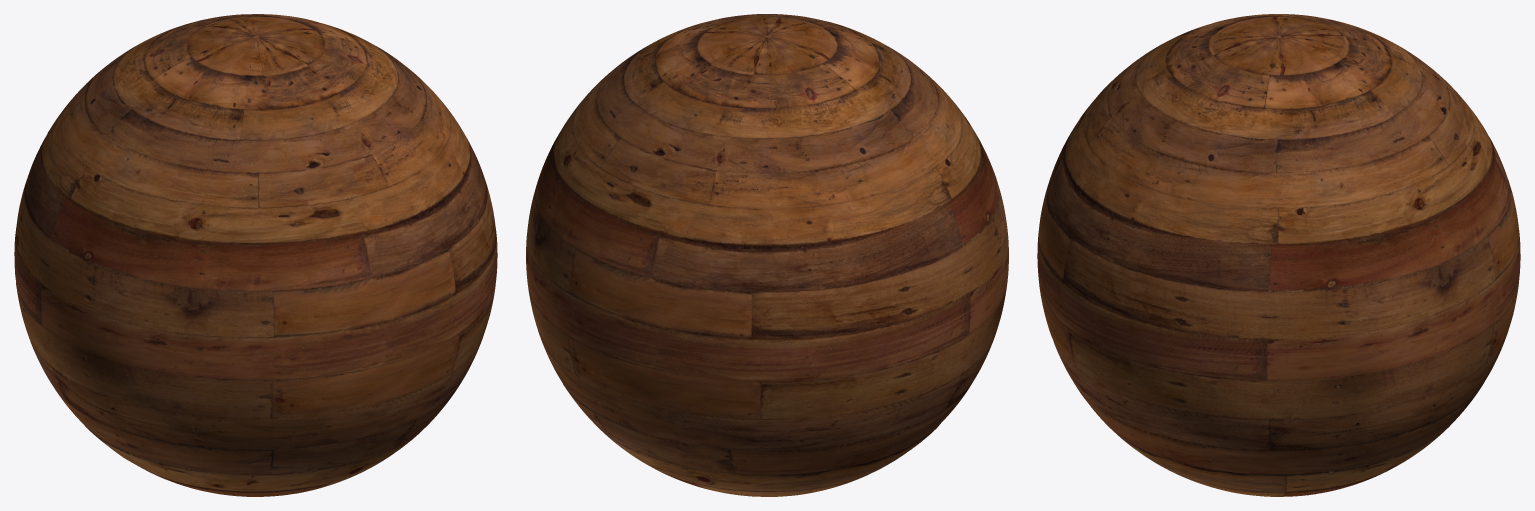
File: wood_table_large_1k.gltf
3 renders of one model, left to right at view 1: azimuth 30°, elevation 25°; view 2: azimuth 150°, elevation 25°; view 3: azimuth 270°, elevation 25°, orthographic.
Parts seen in each view (by area): view 1: sphere_gltf; view 2: sphere_gltf; view 3: sphere_gltf.
Part boxes in pixels (<box>): sphere_gltf: <box>14,14,497,496</box>; sphere_gltf: <box>526,14,1008,496</box>; sphere_gltf: <box>1037,14,1520,496</box>.
Bounding box in the file's own units: 1.59 × 1.59 × 1.59.
1 material, 1 textured.
